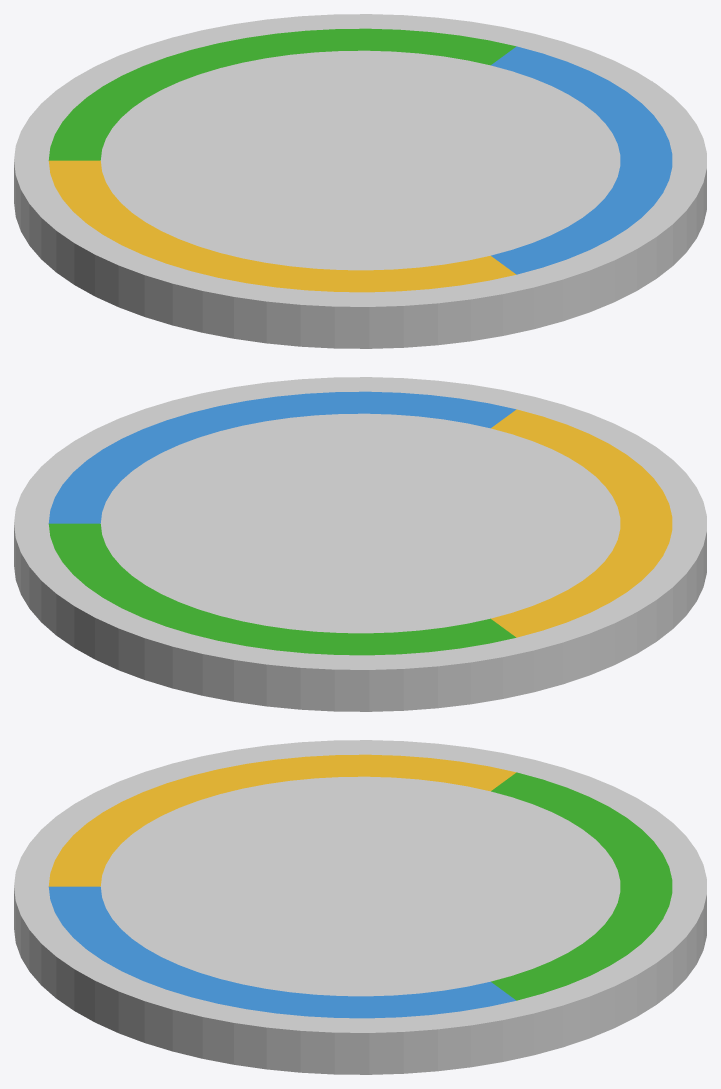
The model's file is knob_base.fbx.
The picture shows the model from 3 angles, top to bottom: view 1: azimuth 30°, elevation 25°; view 2: azimuth 150°, elevation 25°; view 3: azimuth 270°, elevation 25°; orthographic projection.
Visible parts, largest first — view 1: Cylinder.001; view 2: Cylinder.001; view 3: Cylinder.001.
Part boxes in pixels (box(x1,y1,x2,y2)): Cylinder.001: box(14, 14, 706, 348); Cylinder.001: box(14, 377, 706, 711); Cylinder.001: box(14, 740, 706, 1074).
Bounding box in the file's own units: 300 × 20 × 300.
